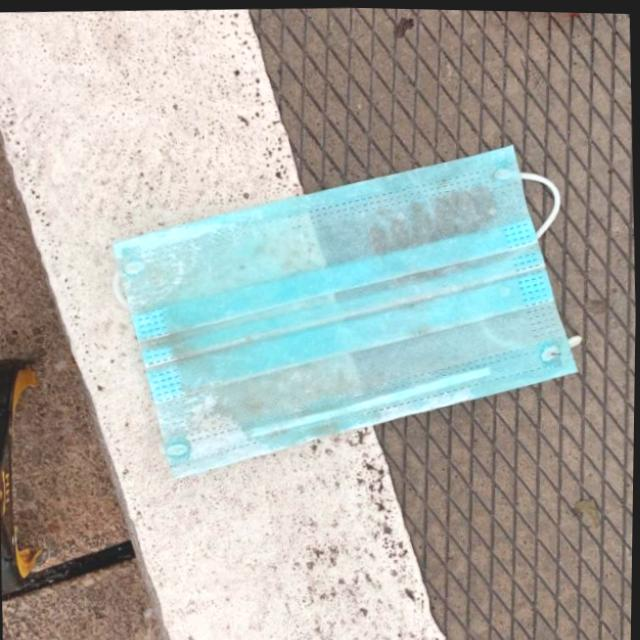Mask: (100, 126, 590, 491)
